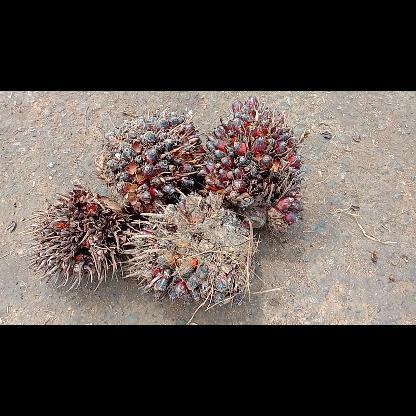TBS abnormal: (122, 192, 258, 302), (199, 96, 304, 230), (95, 109, 209, 213), (22, 184, 132, 290)
